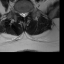CCS_stenosis: (23, 10, 25, 20)
LFS_normal: (28, 8, 30, 16)
LLS_normal: (25, 10, 28, 19)
RFS_normal: (18, 9, 20, 18)
RLS_normal: (20, 10, 23, 19)
